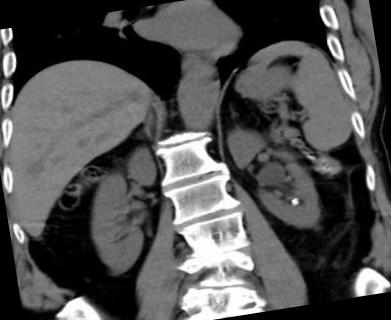Tas_Var: (284, 192, 304, 210)
